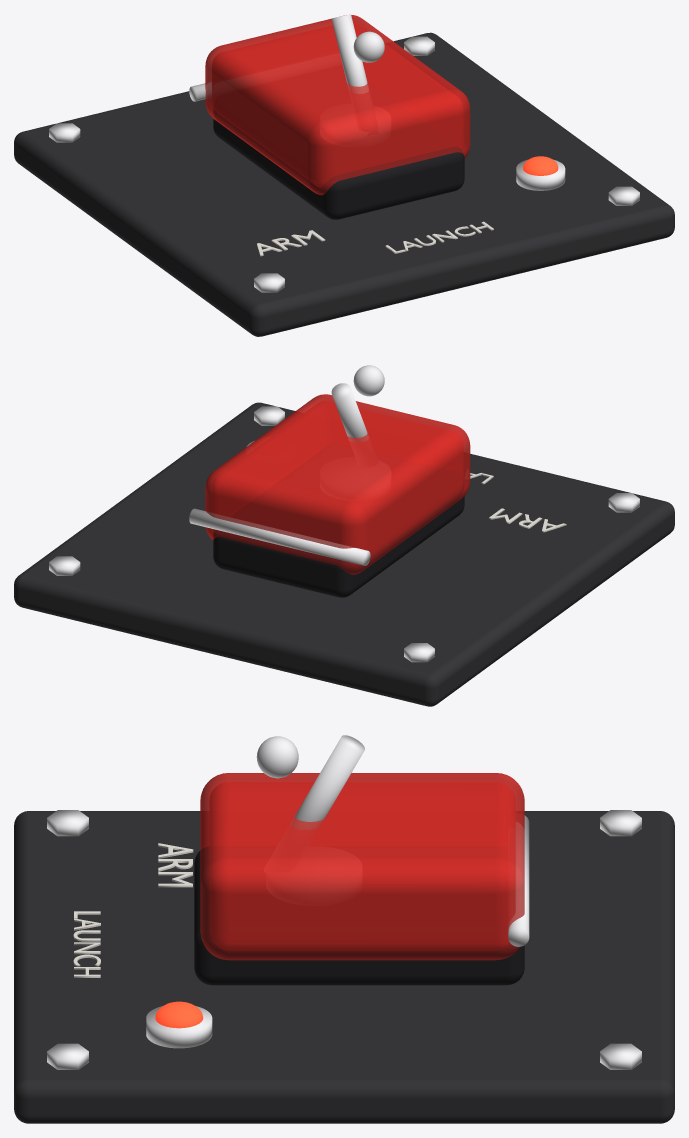
File: switch.glb
The picture shows the model from 3 angles, top to bottom: view 1: azimuth 30°, elevation 25°; view 2: azimuth 150°, elevation 25°; view 3: azimuth 270°, elevation 25°; orthographic projection. The views are drawn at different scales.
Visible parts, largest first — view 1: plate, cover, housing, lever, ledBezel, Sphere, Text.001, ledDome, screw.001, screw.002, Text, screw (+1 smaller); view 2: plate, cover, housing, hingePin, lever, Sphere, screw, screw.003, screw.001, screw.002, Text; view 3: plate, cover, housing, lever, hingePin, ledBezel, Sphere, Text.001, ledDome, Text, screw, screw.001 (+2 smaller).
Part boxes in pixels (left/top/right/bottom): plate: left=14, top=32, right=674, bottom=336; cover: left=205, top=15, right=470, bottom=195; housing: left=213, top=109, right=464, bottom=219; lever: left=331, top=14, right=368, bottom=93; ledBezel: left=516, top=159, right=565, bottom=190; Sphere: left=353, top=31, right=384, bottom=62; Text.001: left=385, top=221, right=493, bottom=253; ledDome: left=523, top=156, right=558, bottom=175; screw.001: left=49, top=123, right=80, bottom=142; screw.002: left=608, top=186, right=639, bottom=205; Text: left=257, top=230, right=325, bottom=256; screw: left=254, top=273, right=284, bottom=292; plate: left=14, top=402, right=674, bottom=706; cover: left=205, top=394, right=470, bottom=574; housing: left=213, top=481, right=464, bottom=597; hingePin: left=189, top=508, right=370, bottom=565; lever: left=331, top=383, right=368, bottom=442; Sphere: left=353, top=365, right=384, bottom=396; screw: left=608, top=493, right=639, bottom=512; screw.003: left=49, top=556, right=80, bottom=575; screw.001: left=404, top=643, right=434, bottom=662; screw.002: left=254, top=406, right=284, bottom=425; Text: left=489, top=508, right=566, bottom=532; plate: left=14, top=811, right=674, bottom=1123; cover: left=200, top=773, right=524, bottom=960; housing: left=194, top=847, right=524, bottom=985; lever: left=290, top=735, right=364, bottom=829; hingePin: left=508, top=815, right=529, bottom=946; ledBezel: left=146, top=1006, right=212, bottom=1048; Sphere: left=256, top=736, right=298, bottom=778; Text.001: left=73, top=911, right=100, bottom=977; ledDome: left=155, top=1001, right=203, bottom=1028; Text: left=158, top=843, right=193, bottom=887; screw: left=47, top=810, right=88, bottom=836; screw.001: left=600, top=810, right=641, bottom=836.
Bounding box in the file's own units: 2.2 × 0.9239 × 2.2.
